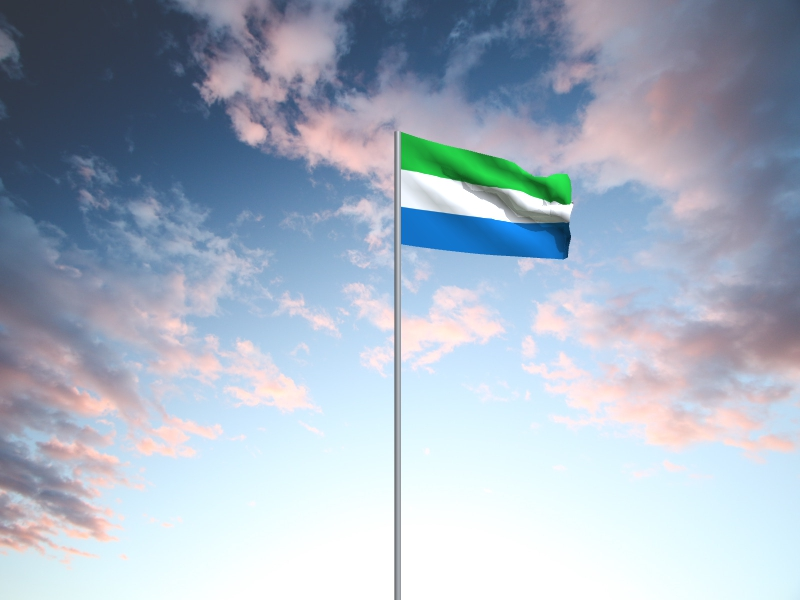sl: (401, 132, 575, 261)
